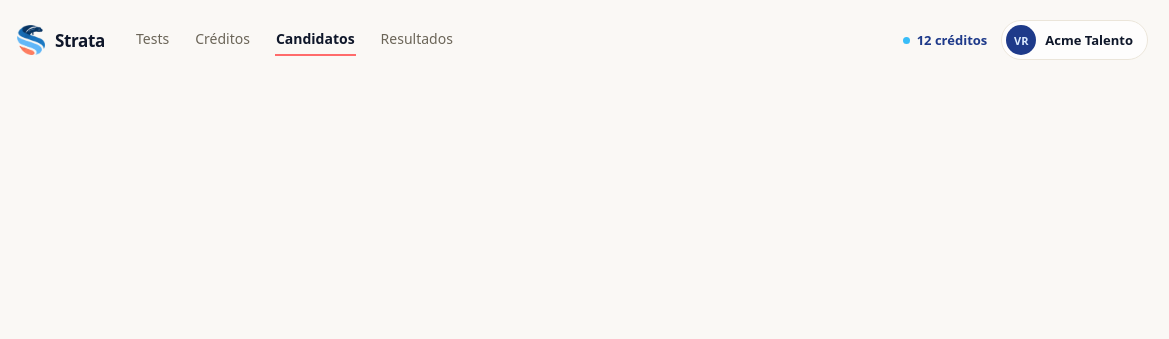
it: BarraRh › el aviso de error se puede cerrar
The width and height of the screenshot is (1169, 339).
Click the button named "menú de cuenta" at coordinates (1075, 40), box [1001, 20, 1148, 60]
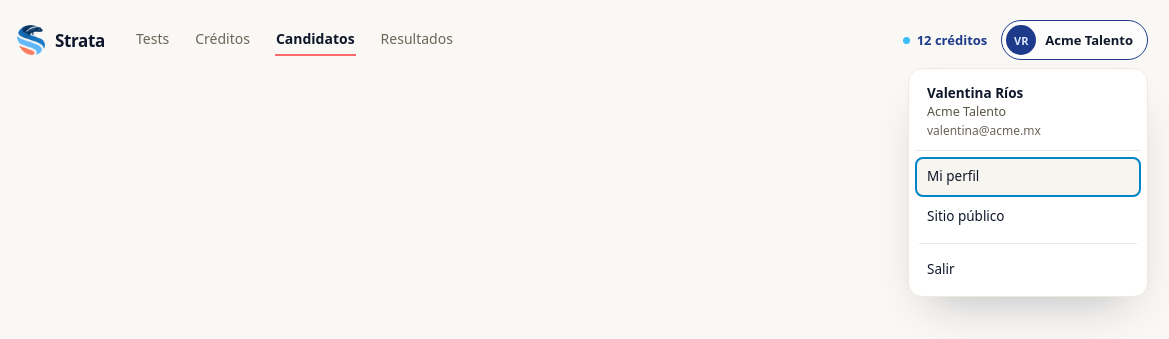
Click the menu item "Salir" at coordinates (1028, 270), box [915, 250, 1141, 290]
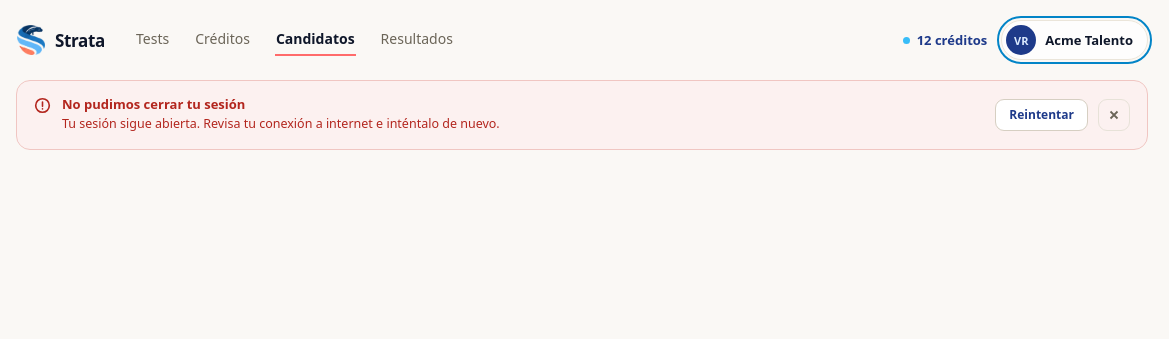
Click the button named "Cerrar aviso" at coordinates (1114, 115), box [1098, 99, 1130, 131]
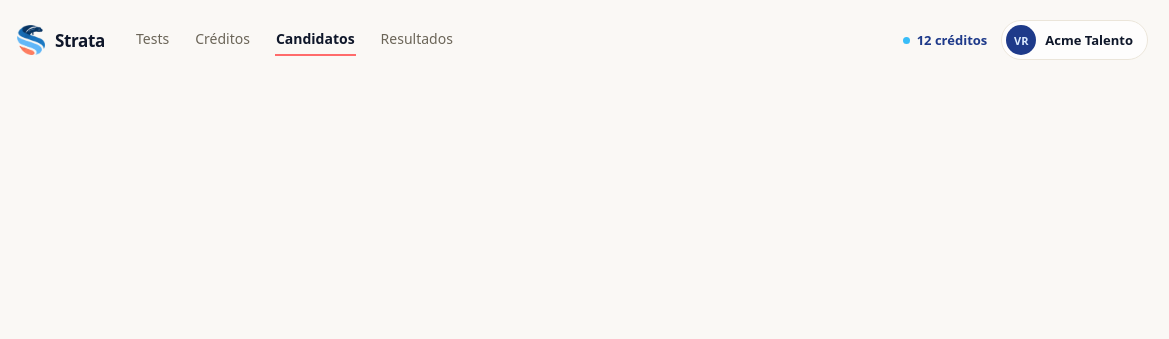
Expected: the message is gone
